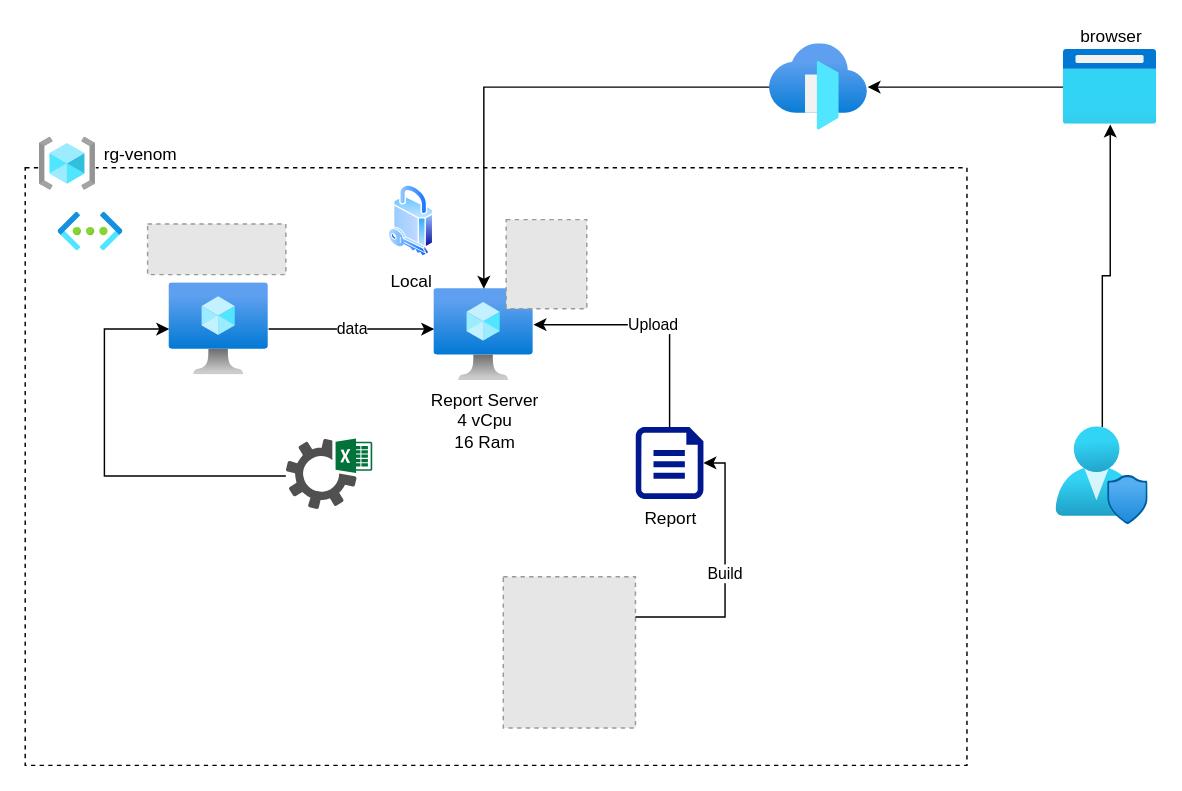
Image size: 1182x791. Some labels were removed from this diagram. Grey dashed boxes stand in for pictures. The shapes that lost their labels are listed below. From the top down, each one's box as (x1, y1, x2, y2) in pixels, then its label:
(769, 43, 867, 130): reports.domain.com
(168, 282, 268, 374): SQL Server 2 vCPU 4 RAM
(285, 438, 372, 508): Load Excel
